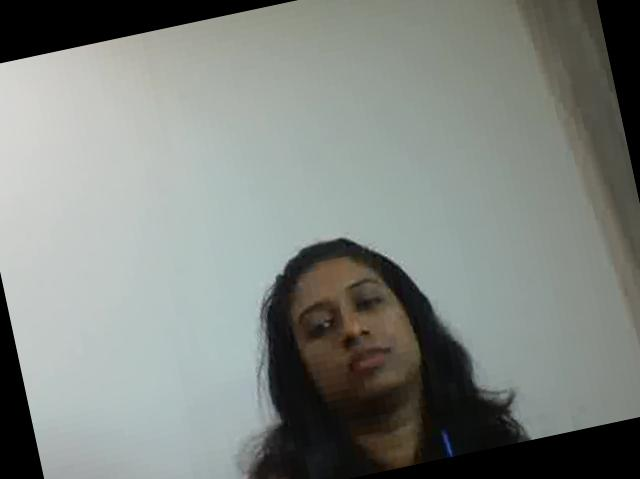bosan: (280, 251, 420, 403)
